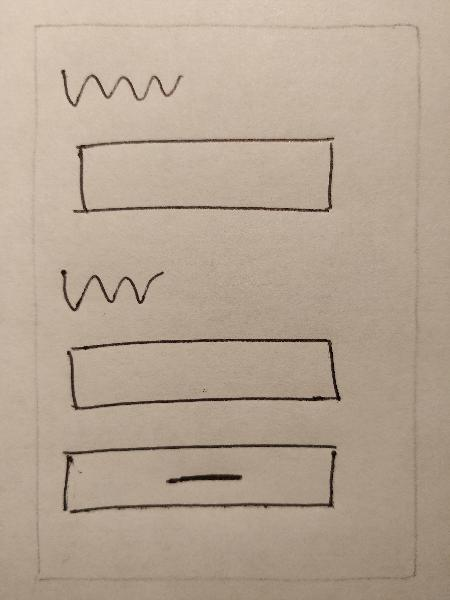button: (53, 438, 345, 522)
text: (53, 59, 187, 114), (51, 258, 171, 315)
text_input: (60, 128, 343, 226), (54, 334, 349, 418)
